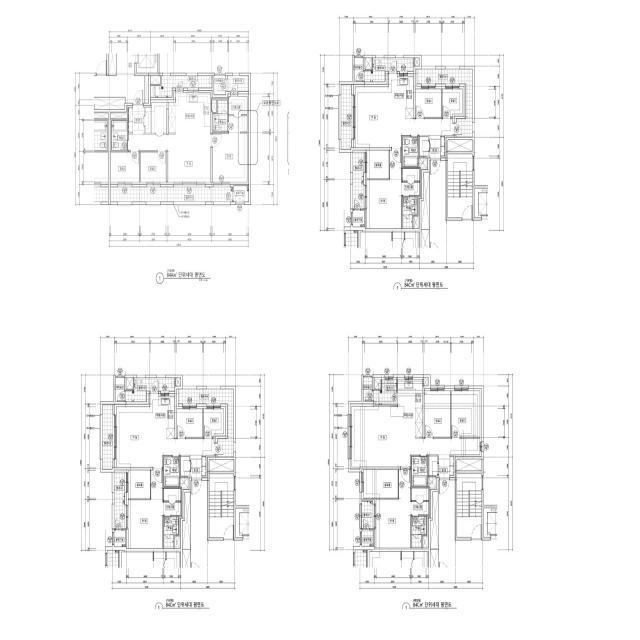space_balconi: (178, 389, 234, 457), (417, 69, 472, 137), (111, 187, 233, 202), (151, 76, 212, 97), (365, 58, 414, 82), (126, 378, 175, 402), (102, 405, 113, 470), (341, 85, 351, 150), (114, 472, 125, 529), (374, 380, 397, 405), (353, 153, 363, 209), (362, 501, 374, 529), (227, 76, 249, 91)
space_bedroom: (128, 470, 163, 548), (367, 150, 401, 229), (376, 470, 410, 548), (213, 133, 247, 182), (451, 391, 480, 437), (425, 391, 450, 437), (111, 152, 139, 182), (140, 152, 166, 182), (415, 89, 441, 117), (177, 409, 202, 437), (442, 89, 462, 117), (204, 409, 224, 437)
space_dressroom: (229, 96, 247, 132), (411, 488, 429, 515), (402, 169, 419, 195), (164, 489, 181, 515)
space_front: (128, 105, 144, 134), (439, 455, 454, 478), (429, 135, 445, 156), (190, 455, 206, 476)
space_kitchen: (168, 93, 211, 133), (398, 380, 423, 437), (150, 394, 175, 439), (389, 74, 413, 119)
space_living_room: (352, 406, 480, 467), (355, 87, 453, 147), (116, 407, 214, 467), (128, 134, 211, 182)
space_multipurpose_space: (364, 470, 398, 498), (367, 150, 389, 179), (128, 470, 150, 498)
space_other: (430, 492, 439, 549), (182, 492, 191, 549), (421, 172, 429, 229), (152, 102, 166, 133), (457, 459, 482, 471), (209, 460, 234, 471), (448, 140, 472, 151), (214, 76, 226, 95), (354, 58, 363, 82), (363, 378, 372, 401), (116, 378, 124, 402), (419, 137, 428, 156), (429, 456, 437, 476), (181, 457, 189, 476), (145, 108, 151, 133), (145, 76, 149, 103), (428, 477, 436, 488), (111, 114, 127, 119), (419, 158, 427, 168), (180, 478, 188, 488), (365, 58, 372, 69), (126, 378, 133, 389), (151, 76, 160, 84), (212, 100, 217, 112), (375, 380, 381, 389), (414, 217, 418, 229), (175, 536, 179, 548), (423, 536, 427, 548), (176, 378, 181, 386), (415, 58, 419, 66), (424, 379, 427, 386)
space_outdoor_room: (234, 186, 249, 202), (114, 530, 126, 547), (353, 210, 364, 227), (362, 530, 373, 546)
space_staircase: (209, 474, 234, 538), (457, 474, 482, 537), (448, 154, 472, 218)
space_toilet: (213, 100, 228, 132), (402, 197, 417, 229), (402, 137, 418, 167), (411, 516, 426, 548), (112, 120, 127, 151), (164, 517, 179, 548), (412, 456, 427, 487), (164, 457, 179, 487)
